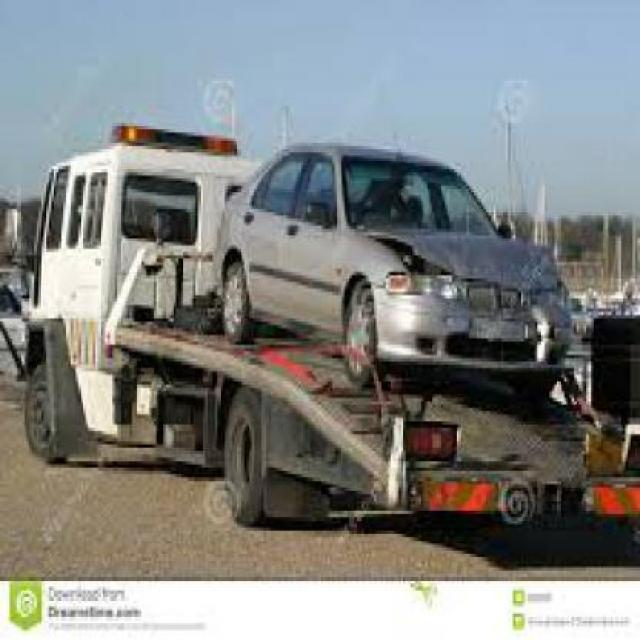damaged-hood: (368, 232, 566, 292)
